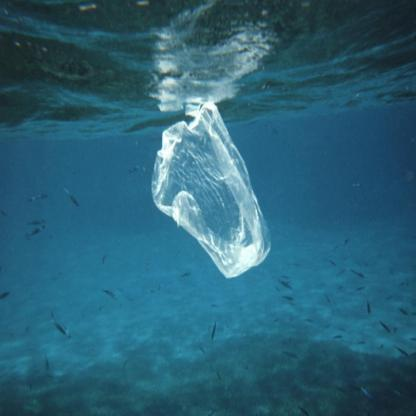Rác: (144, 94, 286, 296)
